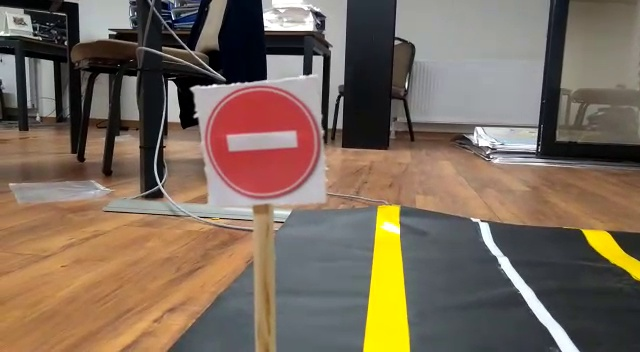girisi_olmayan_yol: (192, 87, 325, 204)
